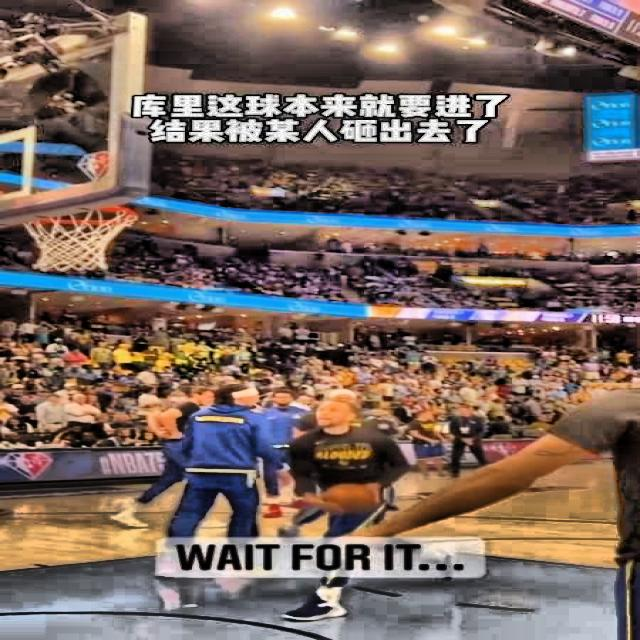rim: (14, 204, 137, 271)
